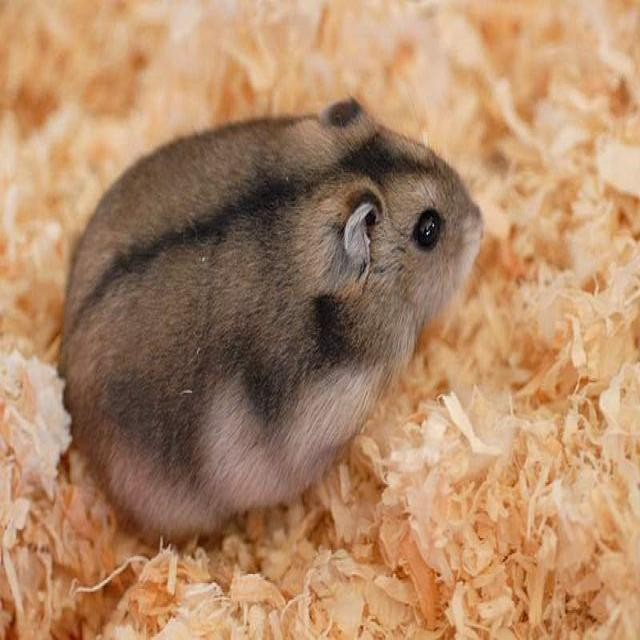hamster: (55, 97, 486, 544)
